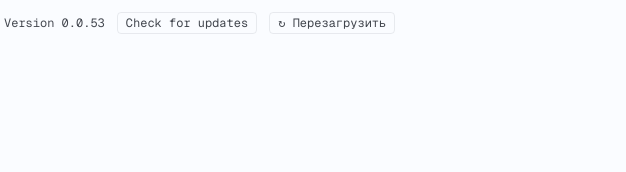
Test case: VersionStatus › checks for updates and reports 'up to date' when none found
Click the button "Check for updates".
click(187, 23)  # box x1=117 y1=12 x2=257 y2=34
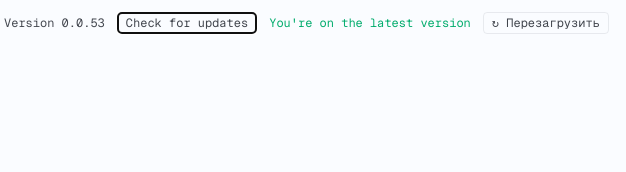
Now the text "You're on the latest version" is shown, box x1=269 y1=15 x2=471 y2=31
